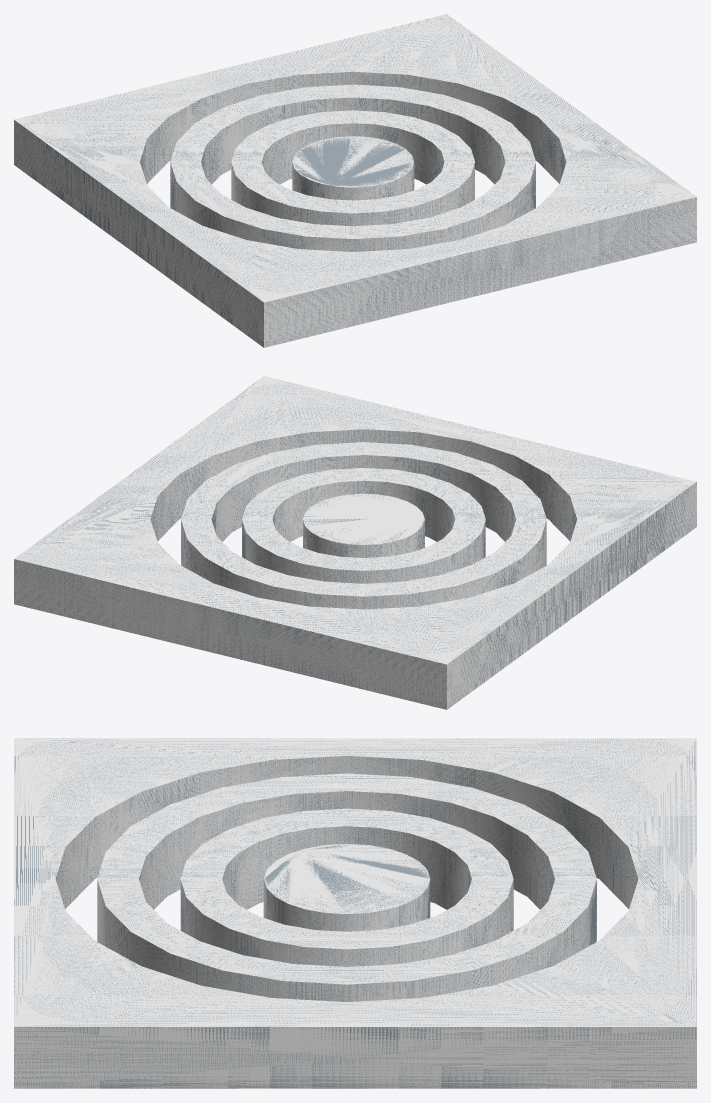
The picture shows the model from 3 angles, top to bottom: view 1: azimuth 30°, elevation 25°; view 2: azimuth 150°, elevation 25°; view 3: azimuth 270°, elevation 25°; orthographic projection. The views are drawn at different scales.
Parts seen in each view (by area): view 1: Model; view 2: Model; view 3: Model.
Boxes of the visible parts, left/top/right/bottom form: Model: left=14, top=14, right=696, bottom=347; Model: left=14, top=376, right=696, bottom=709; Model: left=14, top=738, right=696, bottom=1088.
Bounding box in the file's own units: 5 × 0.5 × 5.
